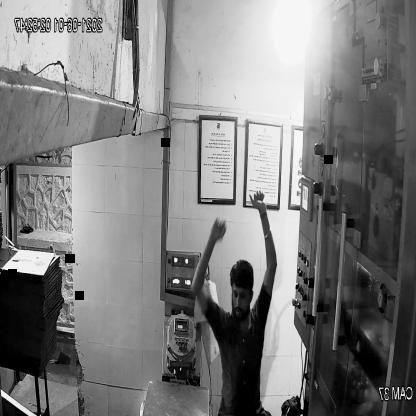no_goggles: (229, 281, 255, 305)
